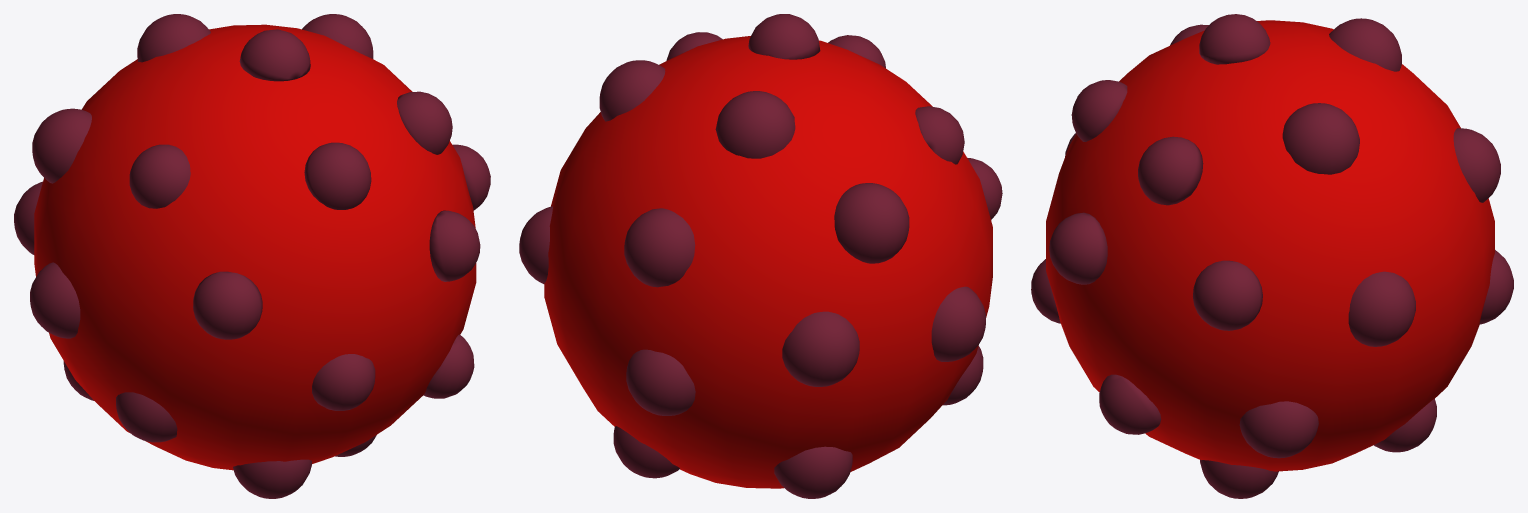
Rendered from bomb.glb.
3 views of the same model, side by side, from view 1: azimuth 30°, elevation 25°; view 2: azimuth 150°, elevation 25°; view 3: azimuth 270°, elevation 25° (orthographic).
Visible parts, largest first — view 1: Sphere_1, Sphere_2; view 2: Sphere_1, Sphere_2; view 3: Sphere_1, Sphere_2.
Part boxes in pixels (x1,y1,x2,y2): Sphere_1: [34, 24, 476, 470]; Sphere_2: [14, 14, 490, 498]; Sphere_1: [544, 36, 992, 488]; Sphere_2: [519, 14, 1002, 498]; Sphere_1: [1046, 20, 1494, 471]; Sphere_2: [1031, 14, 1513, 498].
Bounding box in the file's own units: 0.8275 × 0.8188 × 0.8068.
